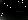person: (17, 3, 24, 16)
